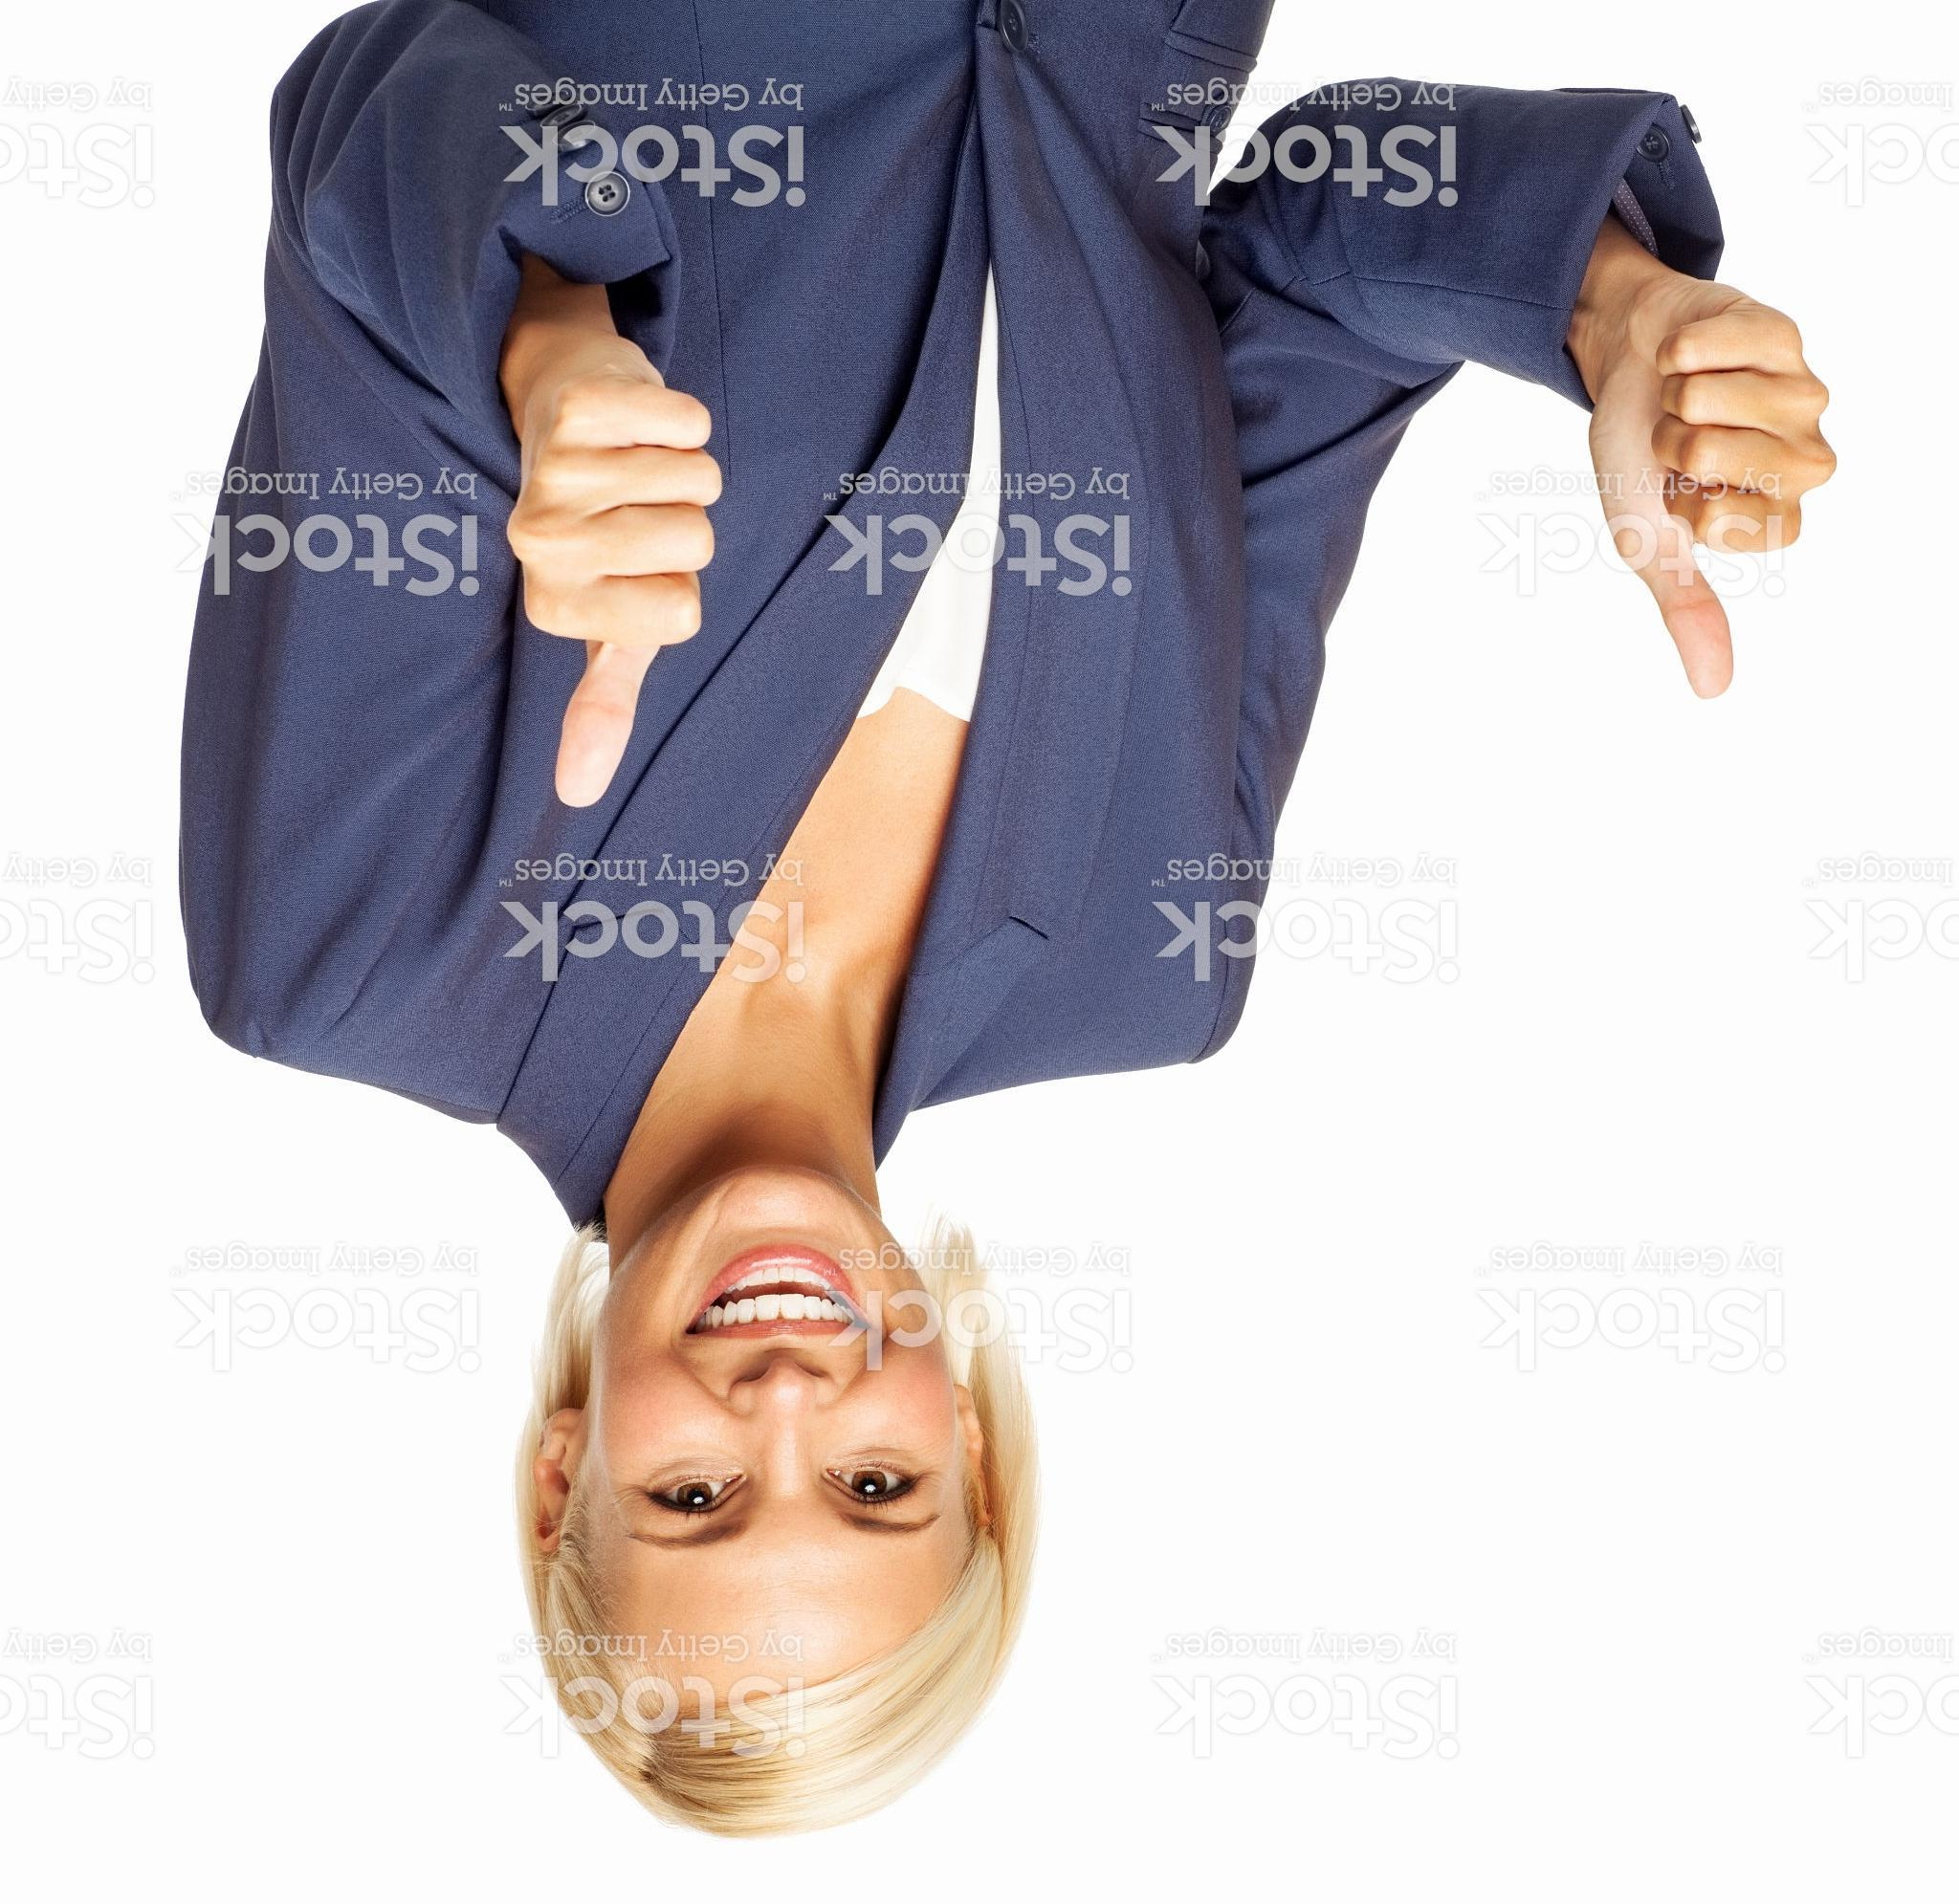thumbsdown: (1581, 269, 1844, 703), (504, 355, 724, 813)
